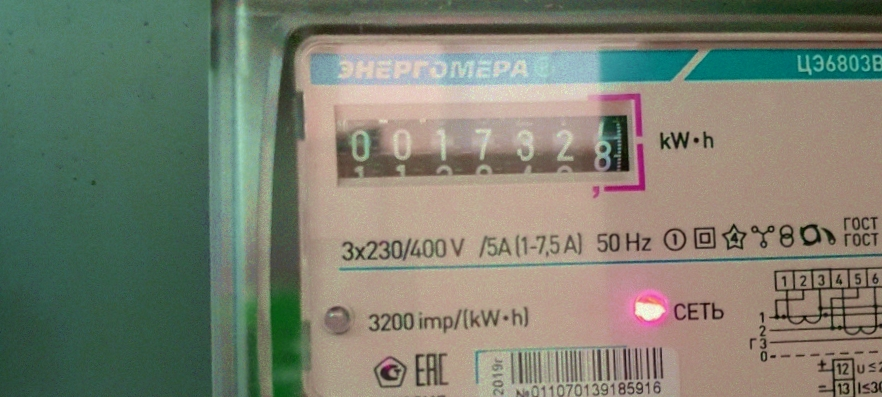0: (349, 125, 372, 163), (390, 126, 412, 160)
1: (433, 125, 449, 161)
2: (552, 127, 574, 163)
3: (512, 127, 536, 163)
7: (470, 124, 494, 162)
8: (590, 137, 611, 173)
screen: (323, 93, 649, 203)
